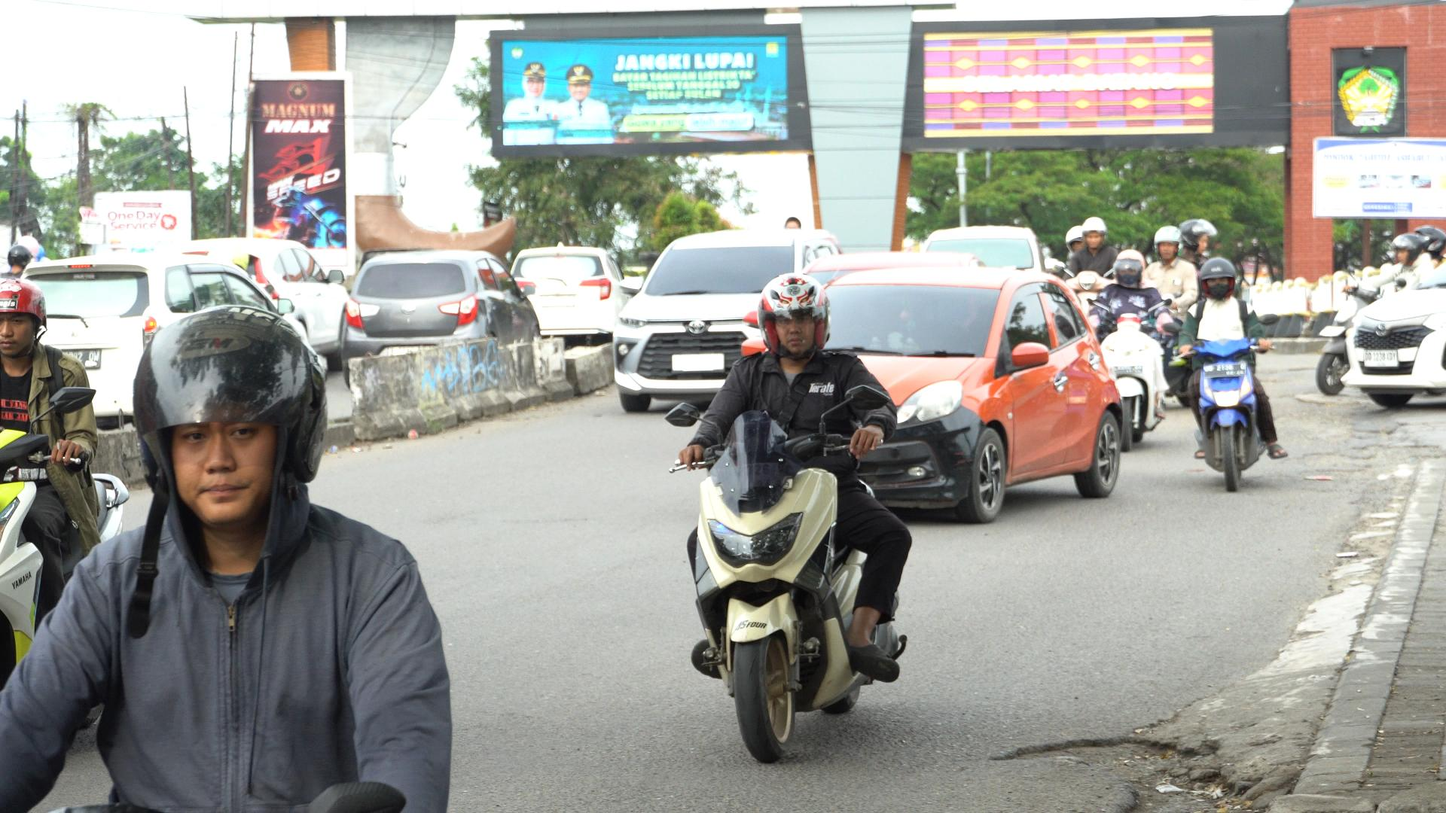number-plate: (1188, 360, 1250, 381)
